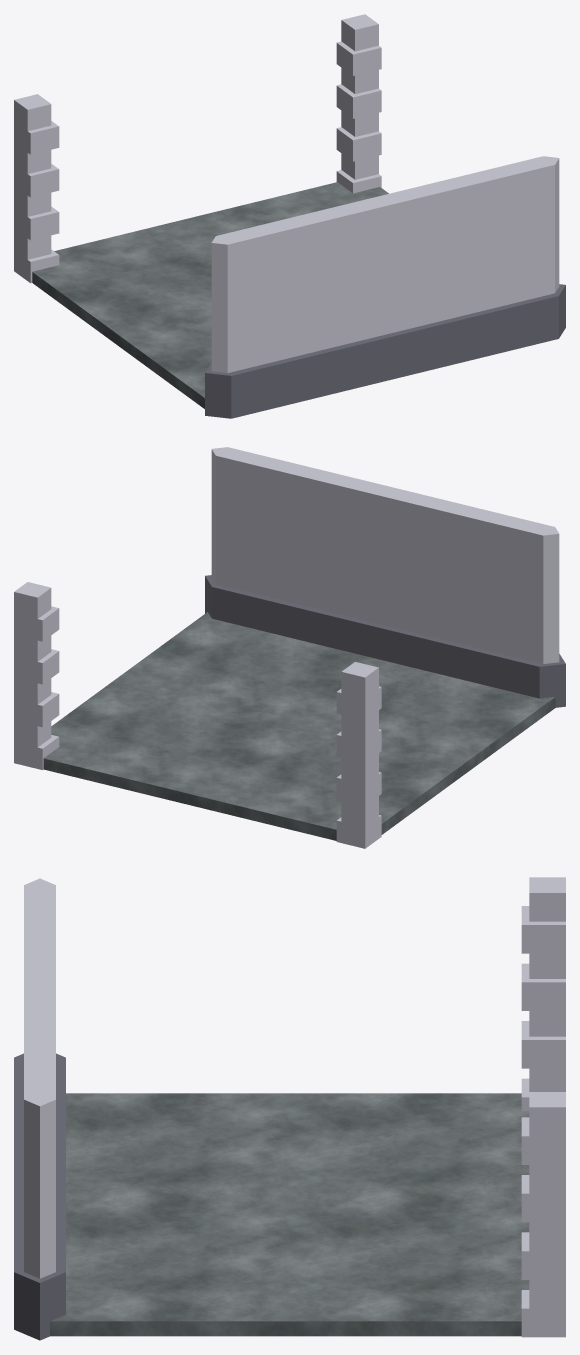
The model's file is intersection_3way_04.fbx.
The picture shows the model from 3 angles, top to bottom: view 1: azimuth 30°, elevation 25°; view 2: azimuth 150°, elevation 25°; view 3: azimuth 270°, elevation 25°; orthographic projection. The views are drawn at different scales.
Visible parts, largest first — view 1: wall_01_75, wall_01_74, floor_01_73, wall_borderBricks_78, wall_borderBricks_77; view 2: floor_01_73, wall_01_75, wall_01_74, wall_borderBricks_78, wall_borderBricks_77; view 3: floor_01_73, wall_01_74, wall_borderBricks_77, wall_borderBricks_78, wall_01_75.
Part boxes in pixels (box(x1,y1,x2,y2)): wall_01_75: box(205, 196, 397, 418); wall_01_74: box(375, 156, 565, 378); floor_01_73: box(32, 182, 388, 408); wall_borderBricks_78: box(14, 94, 59, 283); wall_borderBricks_77: box(336, 14, 381, 193); floor_01_73: box(43, 612, 555, 840); wall_01_75: box(374, 487, 565, 707); wall_01_74: box(205, 447, 394, 658); wall_borderBricks_78: box(336, 662, 381, 848); wall_borderBricks_77: box(14, 582, 59, 769); floor_01_73: box(50, 1093, 529, 1336); wall_01_74: box(14, 992, 65, 1340); wall_borderBricks_77: box(521, 1092, 565, 1337); wall_borderBricks_78: box(521, 877, 565, 1111); wall_01_75: box(14, 878, 65, 1164).
Bounding box in the file's own units: 22.05 × 10 × 21.75.
